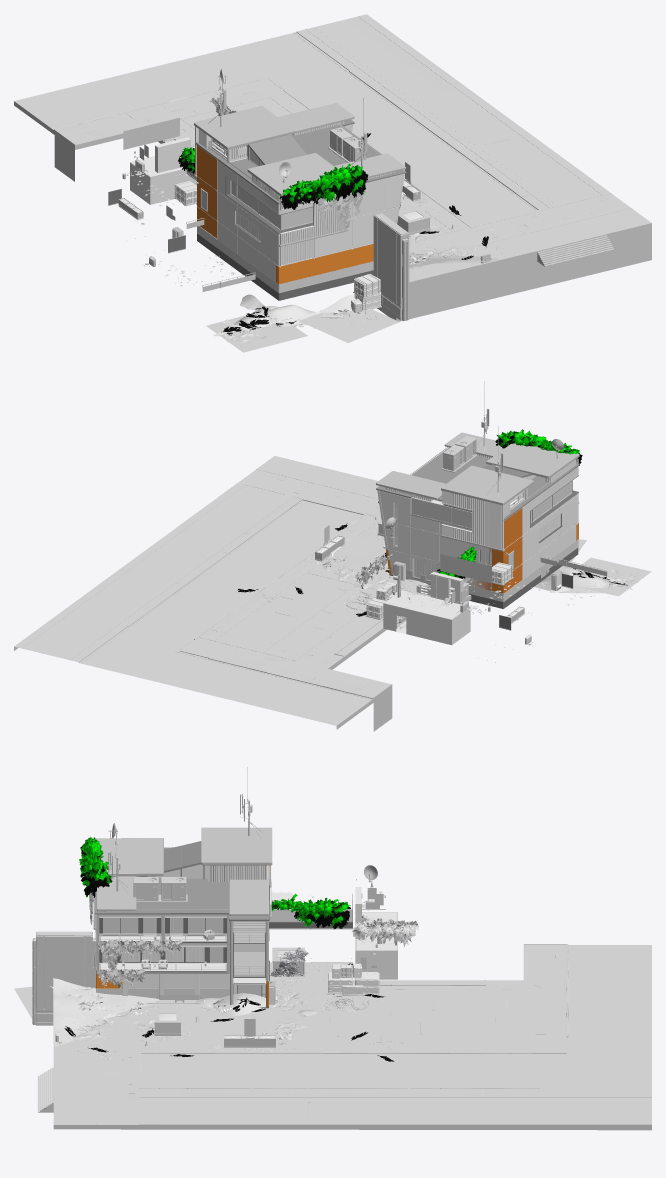
The model's file is cell_162_117.fbx.
The picture shows the model from 3 angles, top to bottom: view 1: azimuth 30°, elevation 25°; view 2: azimuth 150°, elevation 25°; view 3: azimuth 270°, elevation 25°; orthographic projection. The views are drawn at different scales.
Parts seen in each view (by area): view 1: SM_I_RoadFacility_Ground_D_11.mo, SM_H_Building_FutureTech_Dormitory_02_ExterWall_01F.mo.001, SM_I_RoadFacility_Ground_D_11_Decal.mo, SM_H_Building_FutureTech_Dormitory_02_Ornament_01.mo.002, SM_H_Fence_Metal_1024x768_01.mo.010, SM_H_Building_FutureTech_Dormitory_02_Ornament_01.mo.001, SM_DECOR_GrassDebris_Less_01_HD.mo.294, SM_H_Building_FutureTech_Dormitory_02_InterWall_03.mo.002, SM_DECOR_GrassDebris_Less_01_HD.mo.292, SM_TR_PaperFlower_Vine_3m_HD.mo.006, SM_H_Building_FutureTech_Dormitory_02_Ornament_02.mo, SM_H_Building_FutureTech_Dormitory_02_ExterWall_01E.mo.003 (+9 smaller); view 2: SM_I_RoadFacility_Ground_D_11.mo, SM_H_Building_FutureTech_Dormitory_02_ExterWall_01F.mo.001, SM_H_Building_FutureTech_Dormitory_02_Ornament_01.mo.001, SM_I_RoadFacility_Ground_D_11_Decal.mo, SM_H_Building_FutureTech_Dormitory_02_InterWall_03.mo.002, SM_H_Building_FutureTech_Dormitory_02_Ornament_01.mo.002, SM_H_Building_FutureTech_Dormitory_02_ExterWall_01B.mo.003, SM_H_Building_FutureTech_Dormitory_02_Ornament_02.mo, SM_DECOR_GrassDebris_Less_01_HD.mo.292, SM_H_Building_FutureTech_Dormitory_02_ExterWall_01E.mo.003, SM_H_Residential_Bedroom_Cabinet_03.mo.003, SM_H_Building_FutureTech_Dormitory_02_ExterWall_01D.mo.001 (+6 smaller); view 3: SM_I_RoadFacility_Ground_D_11.mo, SM_H_Building_FutureTech_Dormitory_02_ExterWall_01F.mo.001, SM_I_RoadFacility_Ground_D_11_Decal.mo, SM_H_Fence_Metal_1024x768_01.mo.010, SM_H_Building_FutureTech_Dormitory_02_Ornament_01.mo.001, SM_I_Terrain_Road_Desert_Decal_Sand_06.mo.005, SM_H_Building_FutureTech_Dormitory_02_Ornament_01.mo.002, SM_H_Building_FutureTech_Dormitory_02_ExterWall_01C.mo.003, SM_H_Building_FutureTech_Dormitory_02_InterWall_03.mo.002, SM_H_Building_FutureTech_Dormitory_02_Ornament_02.mo, SM_H_Building_FutureTech_Dormitory_02_InterWall_04B.mo.001, SM_TR_PaperFlower_Vine_3m_HD.mo.005 (+14 smaller).
Boxes of the visible parts, x1,y1,x2,y2 form: SM_I_RoadFacility_Ground_D_11.mo: (14, 14, 651, 321); SM_H_Building_FutureTech_Dormitory_02_ExterWall_01F.mo.001: (195, 119, 406, 300); SM_I_RoadFacility_Ground_D_11_Decal.mo: (15, 16, 630, 255); SM_H_Building_FutureTech_Dormitory_02_Ornament_01.mo.002: (247, 153, 348, 246); SM_H_Fence_Metal_1024x768_01.mo.010: (373, 213, 409, 320); SM_H_Building_FutureTech_Dormitory_02_Ornament_01.mo.001: (194, 106, 295, 176); SM_DECOR_GrassDebris_Less_01_HD.mo.294: (299, 309, 399, 342); SM_H_Building_FutureTech_Dormitory_02_InterWall_03.mo.002: (130, 146, 196, 204); SM_DECOR_GrassDebris_Less_01_HD.mo.292: (206, 315, 307, 352); SM_TR_PaperFlower_Vine_3m_HD.mo.006: (312, 163, 368, 204); SM_H_Building_FutureTech_Dormitory_02_Ornament_02.mo: (278, 103, 354, 135); SM_H_Building_FutureTech_Dormitory_02_ExterWall_01E.mo.003: (123, 117, 179, 149); SM_I_RoadFacility_Ground_D_11.mo: (14, 456, 471, 731); SM_H_Building_FutureTech_Dormitory_02_ExterWall_01F.mo.001: (376, 447, 579, 608); SM_H_Building_FutureTech_Dormitory_02_Ornament_01.mo.001: (441, 465, 533, 551); SM_I_RoadFacility_Ground_D_11_Decal.mo: (21, 469, 387, 724); SM_H_Building_FutureTech_Dormitory_02_InterWall_03.mo.002: (383, 589, 470, 645); SM_H_Building_FutureTech_Dormitory_02_Ornament_01.mo.002: (486, 443, 579, 503); SM_H_Building_FutureTech_Dormitory_02_ExterWall_01B.mo.003: (412, 498, 491, 582); SM_H_Building_FutureTech_Dormitory_02_Ornament_02.mo: (376, 471, 445, 501); SM_DECOR_GrassDebris_Less_01_HD.mo.292: (576, 557, 651, 596); SM_H_Building_FutureTech_Dormitory_02_ExterWall_01E.mo.003: (440, 554, 491, 583); SM_H_Residential_Bedroom_Cabinet_03.mo.003: (430, 572, 463, 604); SM_H_Building_FutureTech_Dormitory_02_ExterWall_01D.mo.001: (531, 481, 571, 540); SM_I_RoadFacility_Ground_D_11.mo: (37, 944, 651, 1130); SM_H_Building_FutureTech_Dormitory_02_ExterWall_01F.mo.001: (95, 841, 269, 1008); SM_I_RoadFacility_Ground_D_11_Decal.mo: (96, 944, 651, 1124); SM_H_Fence_Metal_1024x768_01.mo.010: (32, 931, 96, 1025); SM_H_Building_FutureTech_Dormitory_02_Ornament_01.mo.001: (201, 827, 272, 918); SM_I_Terrain_Road_Desert_Decal_Sand_06.mo.005: (53, 978, 159, 1046); SM_H_Building_FutureTech_Dormitory_02_Ornament_01.mo.002: (93, 838, 163, 929); SM_H_Building_FutureTech_Dormitory_02_ExterWall_01C.mo.003: (103, 918, 223, 961); SM_H_Building_FutureTech_Dormitory_02_InterWall_03.mo.002: (355, 912, 397, 979); SM_H_Building_FutureTech_Dormitory_02_Ornament_02.mo: (229, 879, 268, 915); SM_H_Building_FutureTech_Dormitory_02_InterWall_04B.mo.001: (234, 933, 264, 976); SM_TR_PaperFlower_Vine_3m_HD.mo.005: (292, 897, 350, 929).
Bounding box in the file's own units: 60.69 × 30.51 × 76.45.
